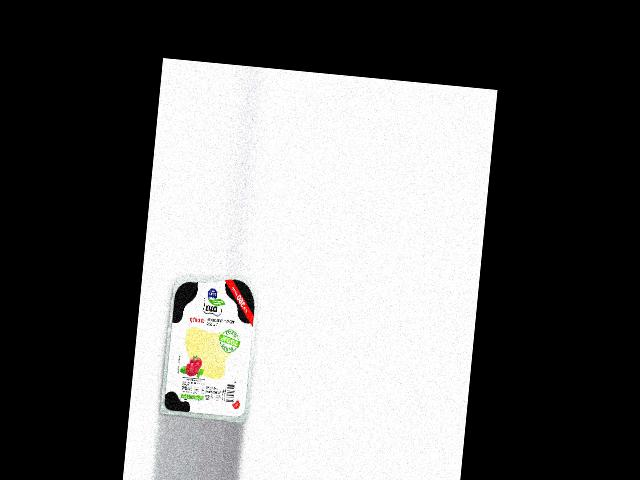cheese: (159, 268, 261, 423)
